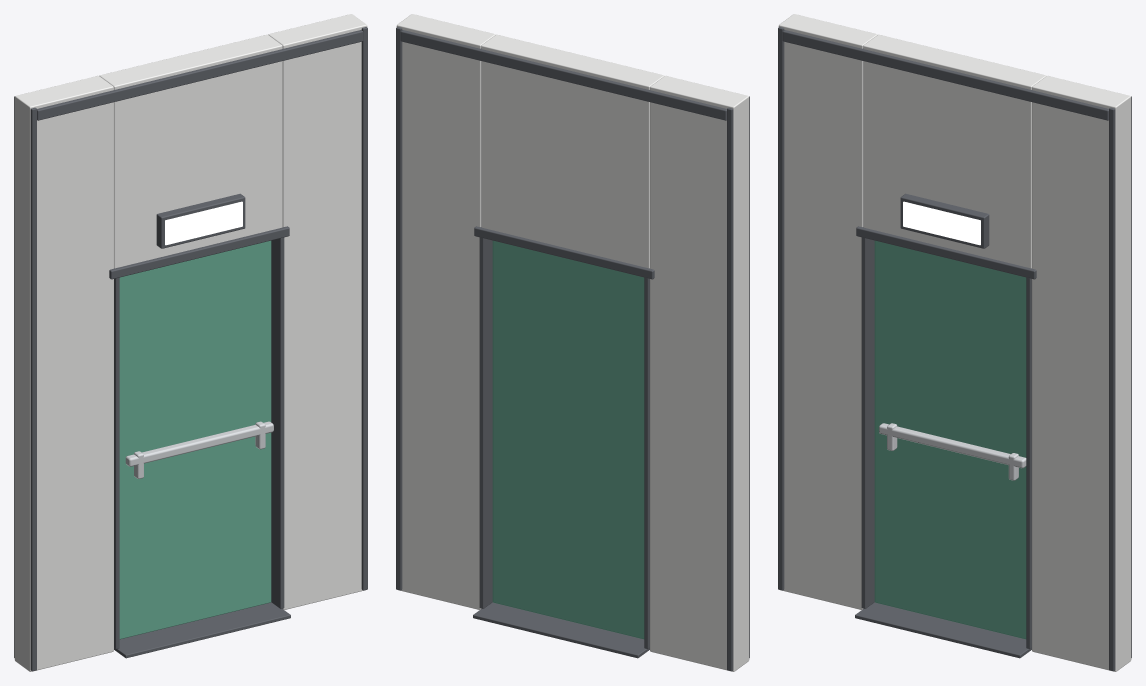
3 views of the same model, side by side, from view 1: azimuth 30°, elevation 25°; view 2: azimuth 150°, elevation 25°; view 3: azimuth 330°, elevation 25° (orthographic).
Visible parts, largest first — view 1: fire-exit-module, leaf/green, leaf/steel; view 2: fire-exit-module, leaf/green; view 3: fire-exit-module, leaf/green, leaf/steel.
Boxes of the visible parts, x1,y1,x2,y2 form: fire-exit-module: (14, 14, 367, 671); leaf/green: (119, 240, 271, 639); leaf/steel: (125, 421, 273, 478); fire-exit-module: (396, 14, 749, 671); leaf/green: (492, 240, 644, 639); fire-exit-module: (778, 14, 1131, 671); leaf/green: (874, 240, 1026, 639); leaf/steel: (879, 423, 1026, 480).
Bounding box in the file's own units: 2 × 3.2 × 0.3598.
